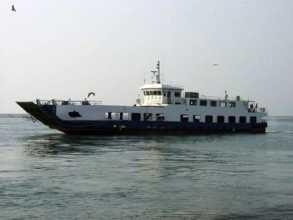otherboat: (7, 57, 284, 134)
